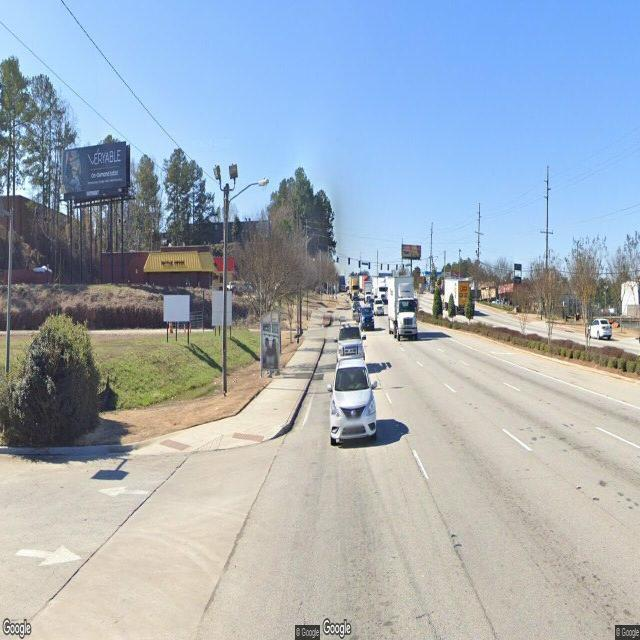shelter: (258, 310, 288, 378)
